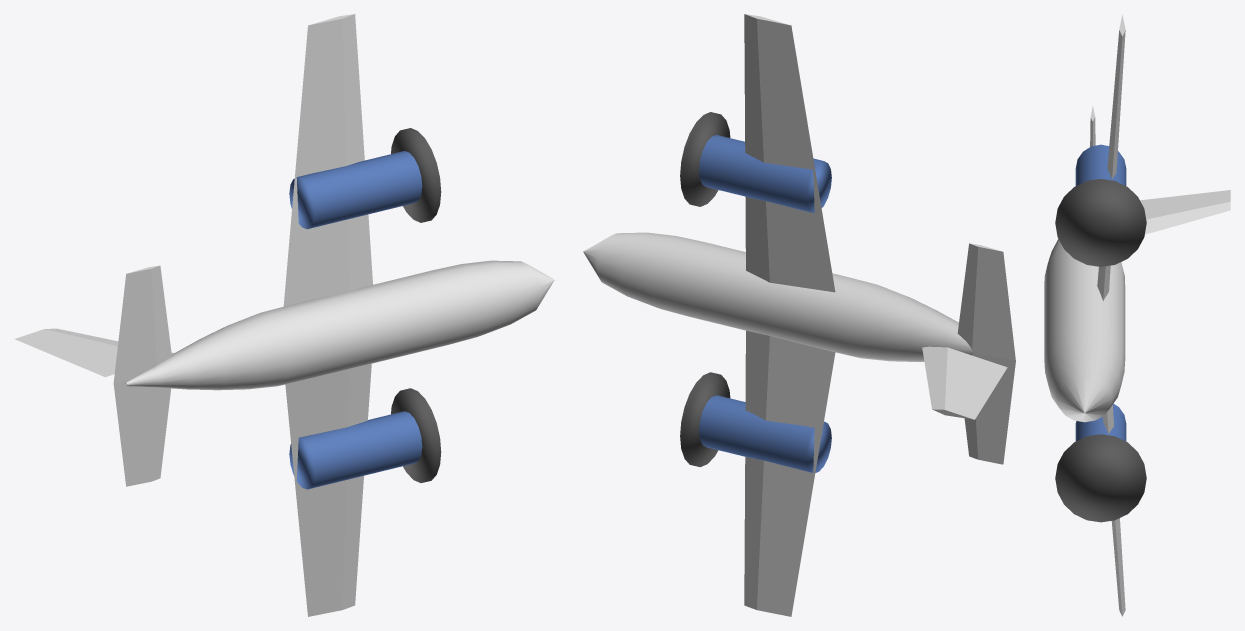
File: C3_TWIN_0002.glb
3 views of the same model, side by side, from view 1: azimuth 30°, elevation 25°; view 2: azimuth 150°, elevation 25°; view 3: azimuth 270°, elevation 25° (orthographic).
Bounding box in the file's own units: 11.19 × 13.57 × 3.95.
